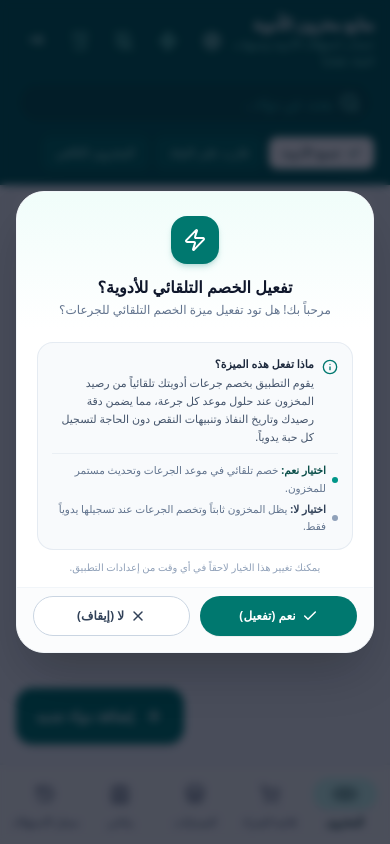
Scenario: Auto-Deduction First Run Prompt Integration › persists the clean-install preference without entering the stock mutation path
The width and height of the screenshot is (390, 844).
Expected: the heading "تفعيل الخصم التلقائي للأدوية؟" is shown, 98,276 -> 292,298
Click the button "نعم (تفعيل)" at (278, 616), box 200,596 -> 357,636
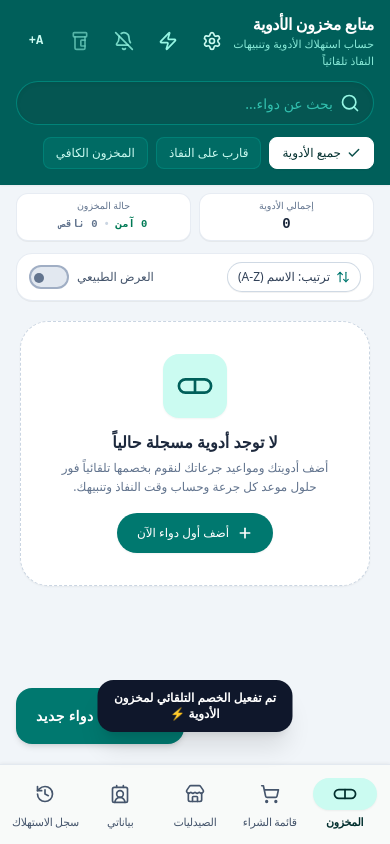
Expected: the heading "تفعيل الخصم التلقائي للأدوية؟" is gone
